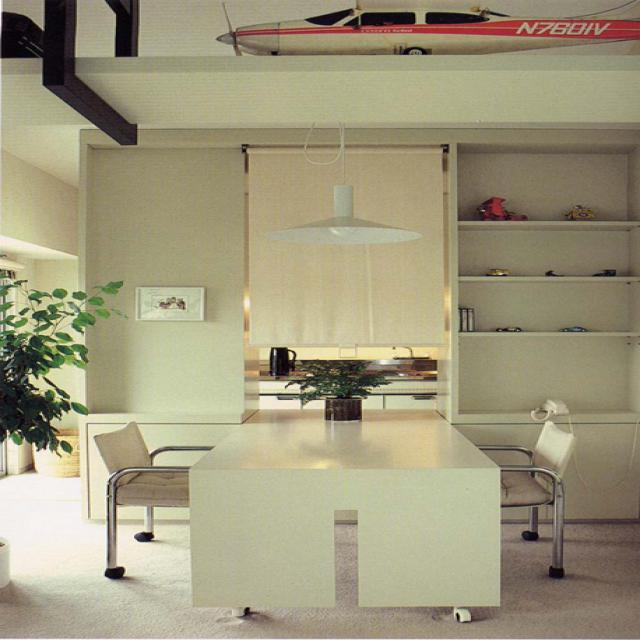painting crop: (134, 286, 203, 322)
